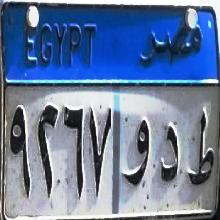2: (37, 102, 59, 198)
6: (61, 104, 88, 198)
7: (88, 100, 113, 198)
9: (8, 101, 34, 198)
Taa: (186, 106, 216, 191)
daal: (155, 112, 182, 184)
waw: (122, 113, 151, 192)
